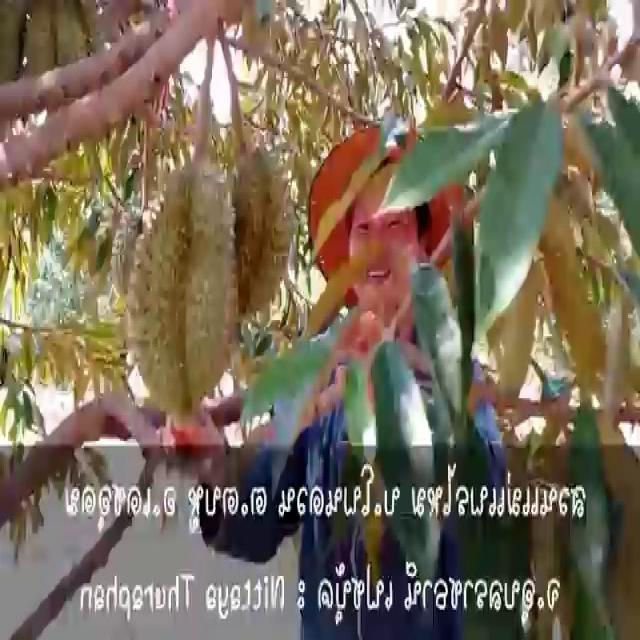durian: (118, 156, 240, 420), (204, 144, 296, 318)
